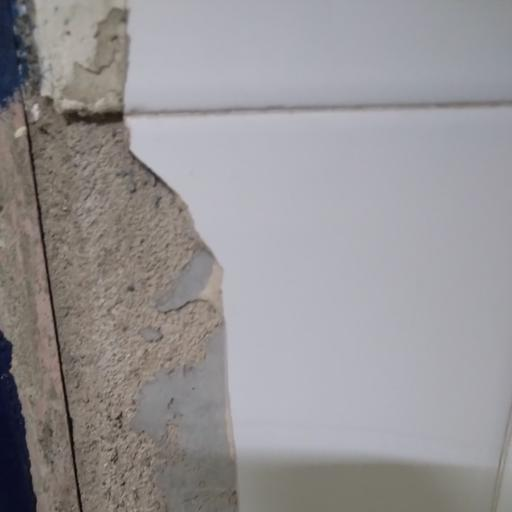spalling: (11, 7, 238, 512)
